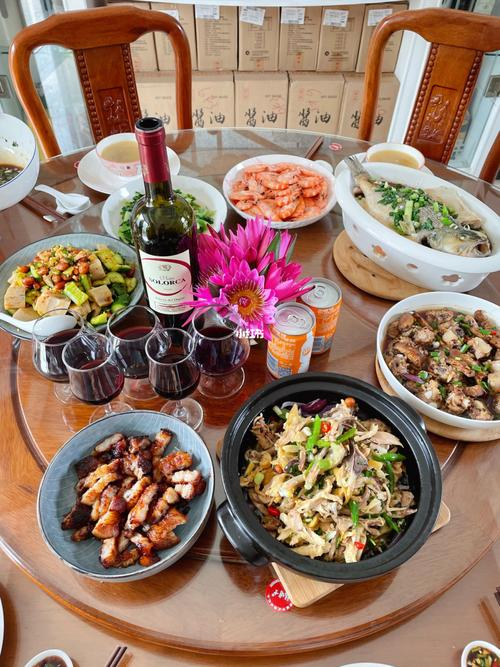food: (219, 358, 432, 588), (37, 397, 216, 585), (333, 144, 494, 290), (372, 279, 499, 437), (0, 227, 146, 335), (219, 146, 342, 229)
